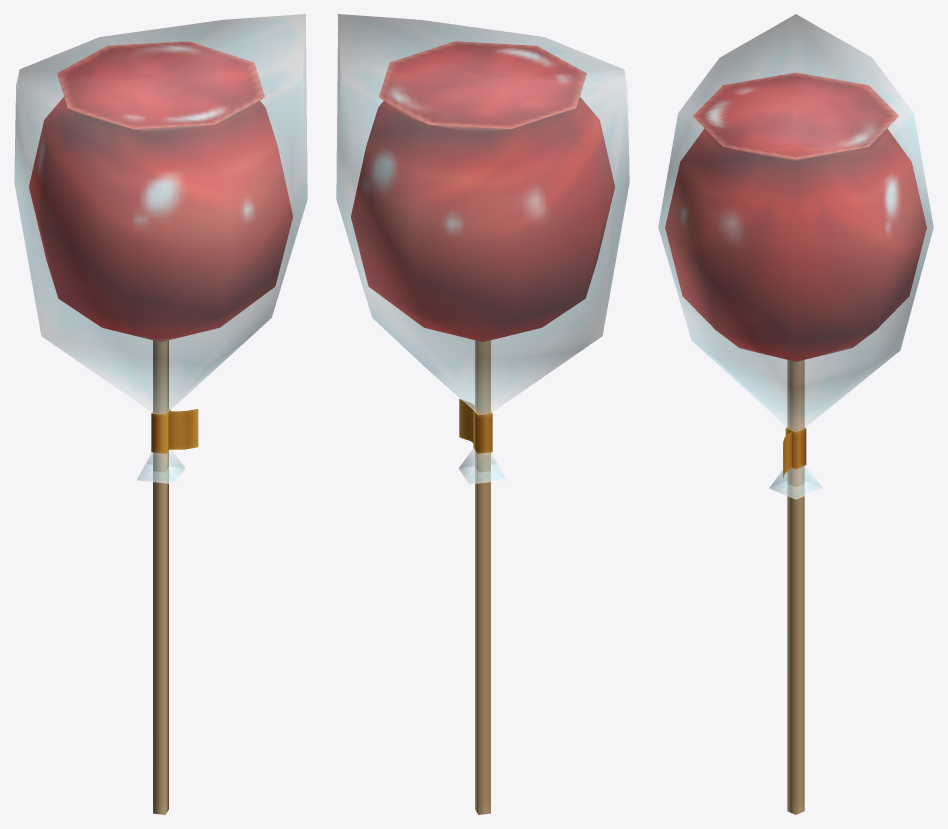
Rendered from jsf_Apple_04.fbx.
3 views of the same model, side by side, from view 1: azimuth 30°, elevation 25°; view 2: azimuth 150°, elevation 25°; view 3: azimuth 270°, elevation 25° (orthographic). The views are drawn at different scales.
Parts seen in each view (by area): view 1: Bag, Apple, Tape; view 2: Bag, Apple, Tape; view 3: Bag, Apple, Tape.
Boxes of the visible parts, x1,y1,x2,y2 form: Bag: (14, 14, 307, 484); Apple: (29, 41, 292, 814); Tape: (151, 409, 198, 453); Bag: (336, 14, 629, 484); Apple: (351, 41, 614, 814); Tape: (459, 399, 492, 453); Bag: (658, 14, 933, 499); Apple: (665, 72, 926, 814); Tape: (783, 427, 806, 478).
Bounding box in the file's own units: 7.84 × 19.72 × 6.75.
